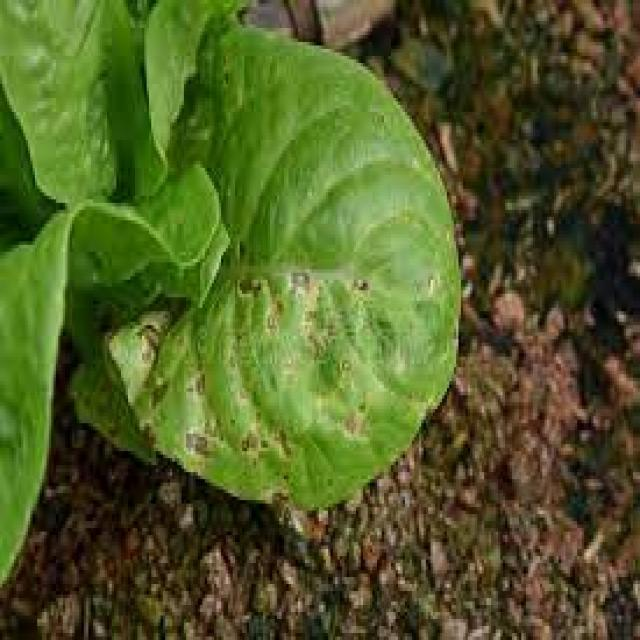Downy_mildew_on_lettuce: (192, 177, 414, 476)
